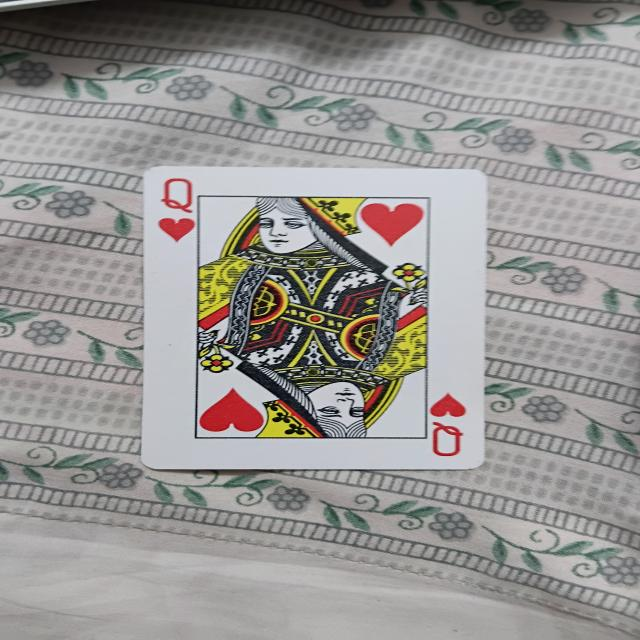QH: (139, 164, 492, 471)
